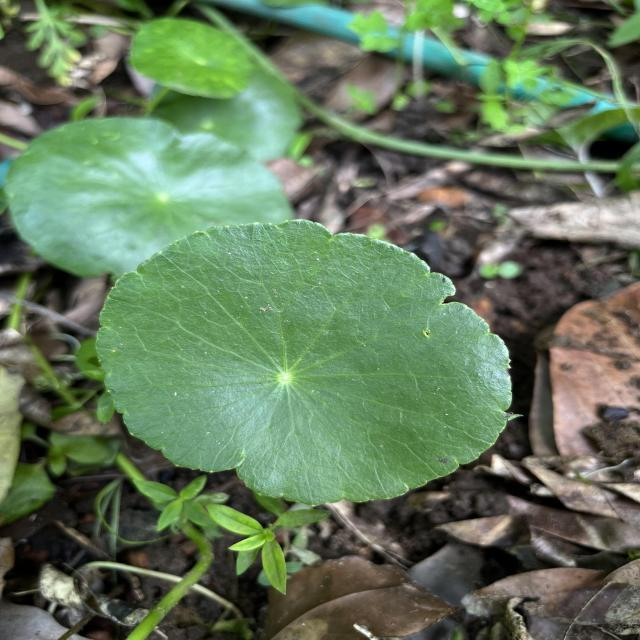Bacopa monnieri: (92, 214, 516, 512)
